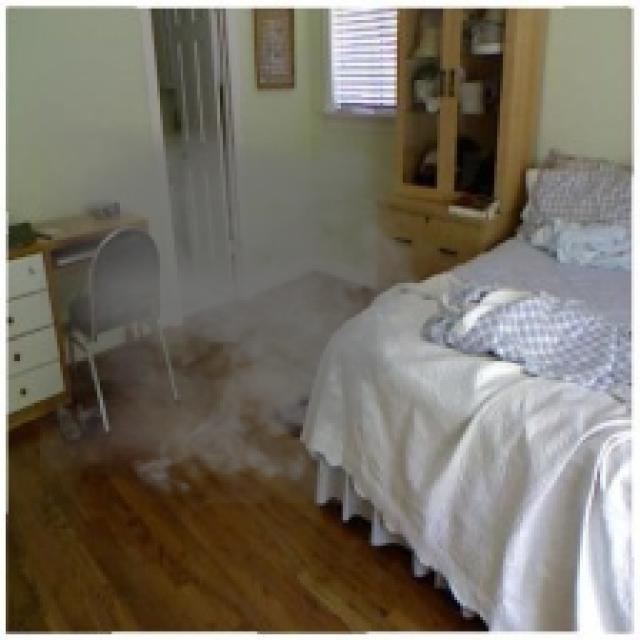Smoke: (40, 123, 443, 506)
